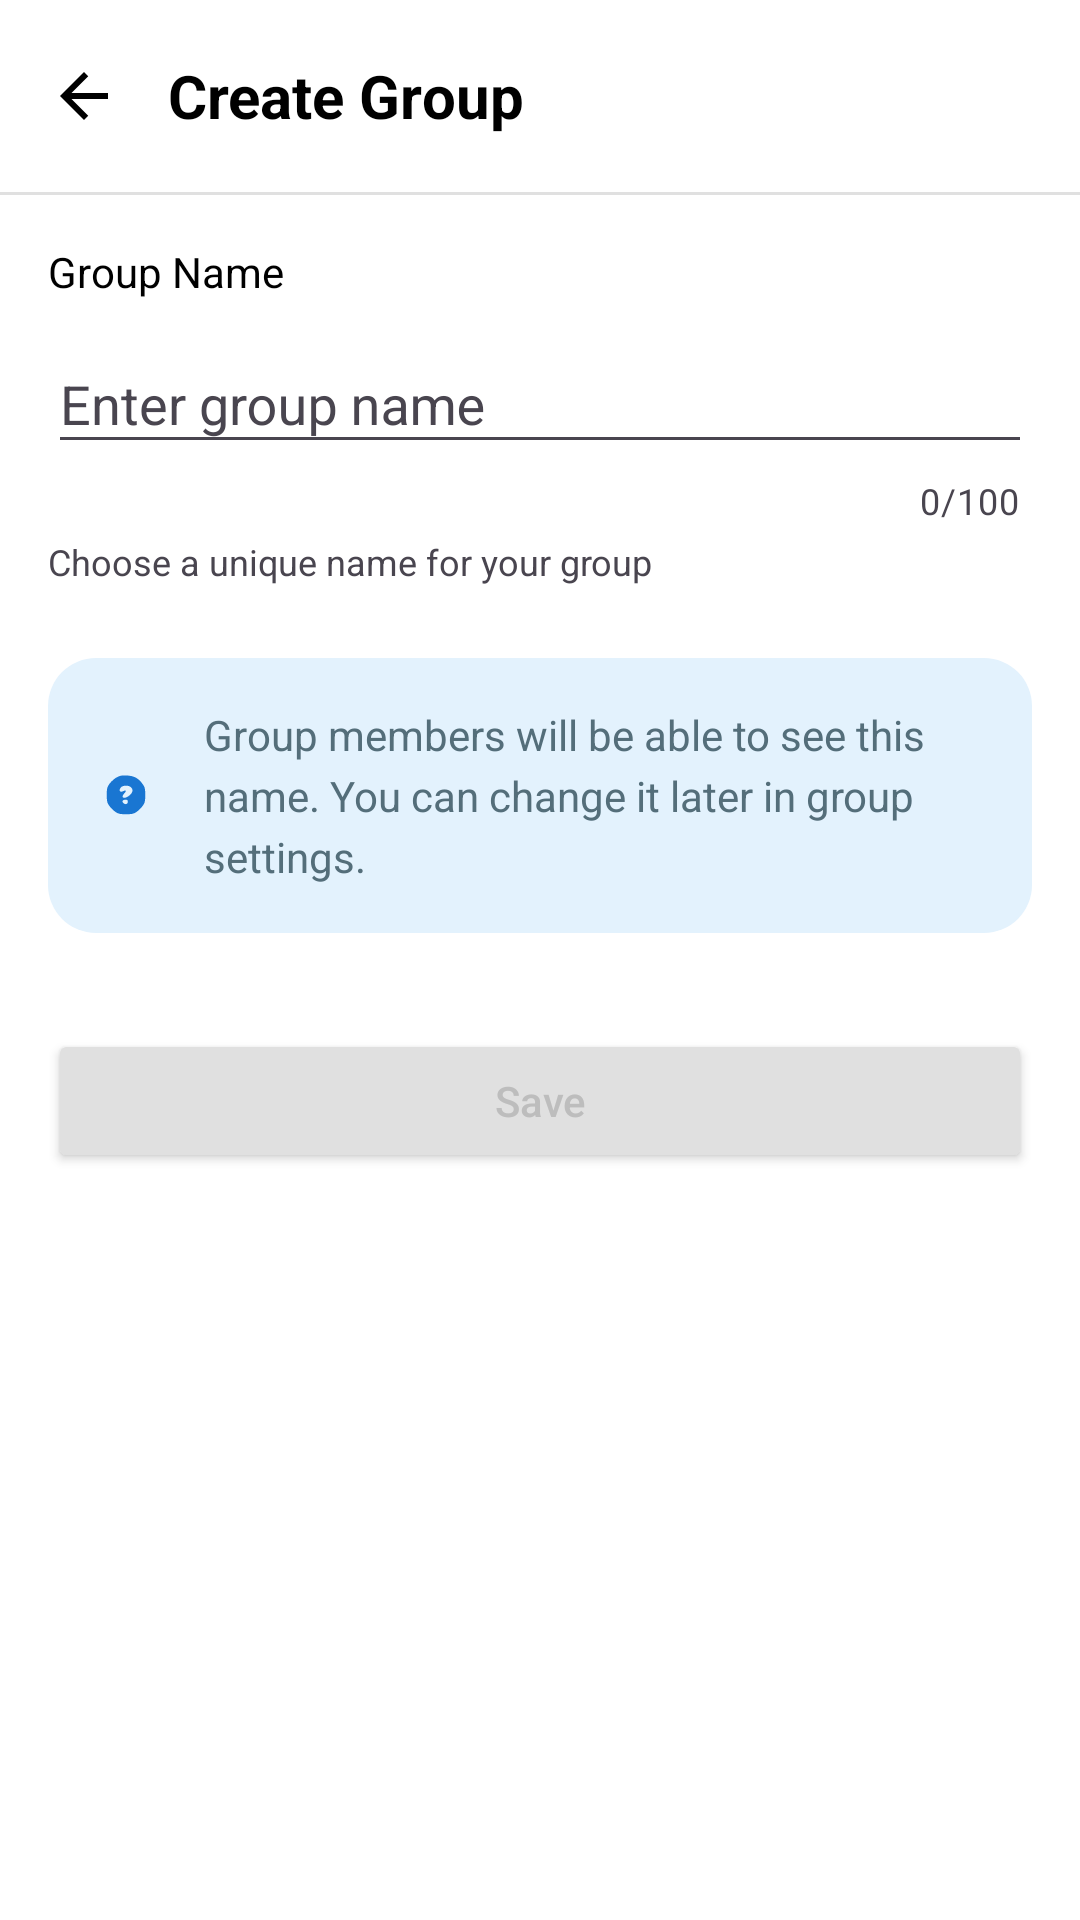

Locate icon controls on the screen. Image size 1080px×1920px, boxes as (x1, y1, x2, y2).
arrow back: (60, 72, 108, 120)
question circle: (106, 775, 146, 815)
